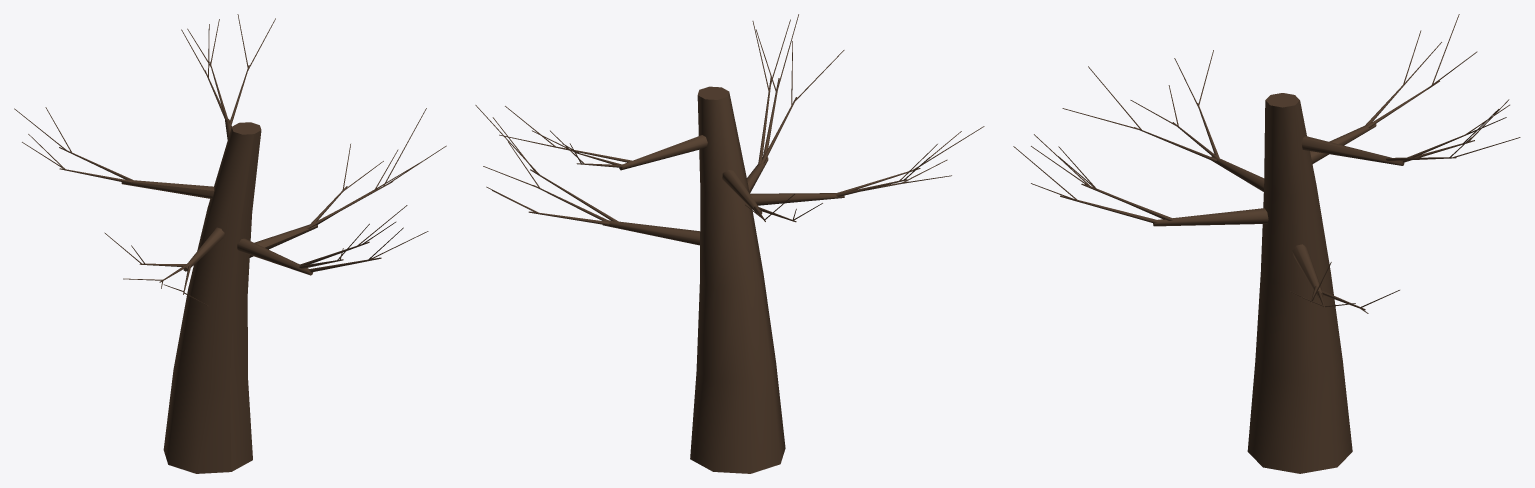
The model's file is tree-trunk.glb.
3 renders of one model, left to right at view 1: azimuth 30°, elevation 25°; view 2: azimuth 150°, elevation 25°; view 3: azimuth 270°, elevation 25°, orthographic. The views are drawn at different scales.
Parts seen in each view (by area): view 1: ProceduralTreeTrunk; view 2: ProceduralTreeTrunk; view 3: ProceduralTreeTrunk.
Part boxes in pixels (x1,y1,x2,y2): ProceduralTreeTrunk: [14, 14, 446, 473]; ProceduralTreeTrunk: [475, 14, 984, 473]; ProceduralTreeTrunk: [1013, 14, 1520, 473].
Bounding box in the file's own units: 3.95 × 3.47 × 4.05.
